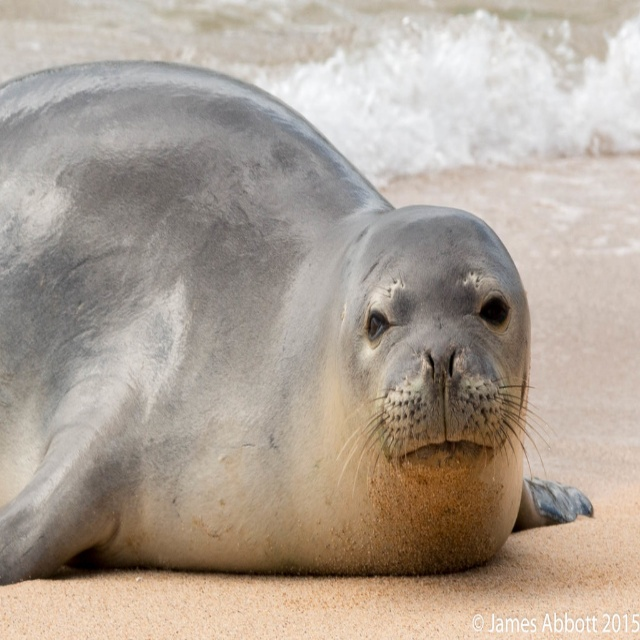Harbor seal: (0, 57, 560, 583)
